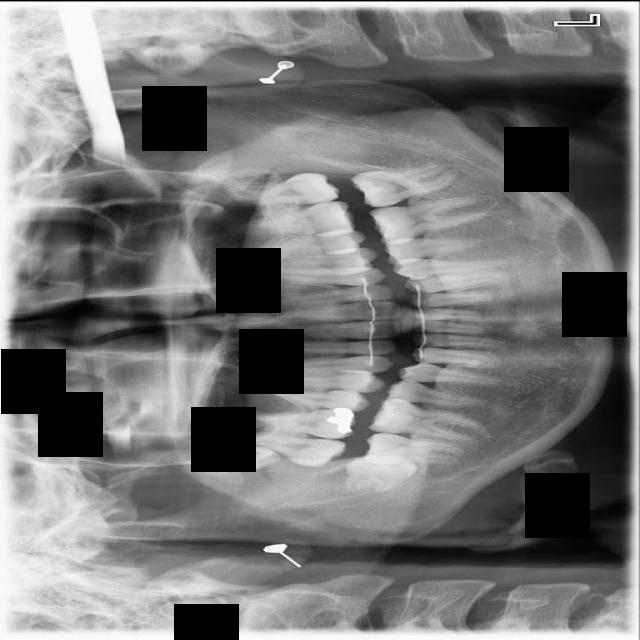3M ESPE Implant: (202, 444, 281, 470)
52: (304, 407, 356, 438)
73: (569, 38, 582, 44)
BioHorizons Implant: (220, 170, 342, 208)
Blue Sky Bio Implant: (349, 161, 460, 210)
Caries: (238, 429, 348, 470)
Implant: (361, 431, 465, 468)
Keystone Dental Implant: (341, 450, 419, 498)
